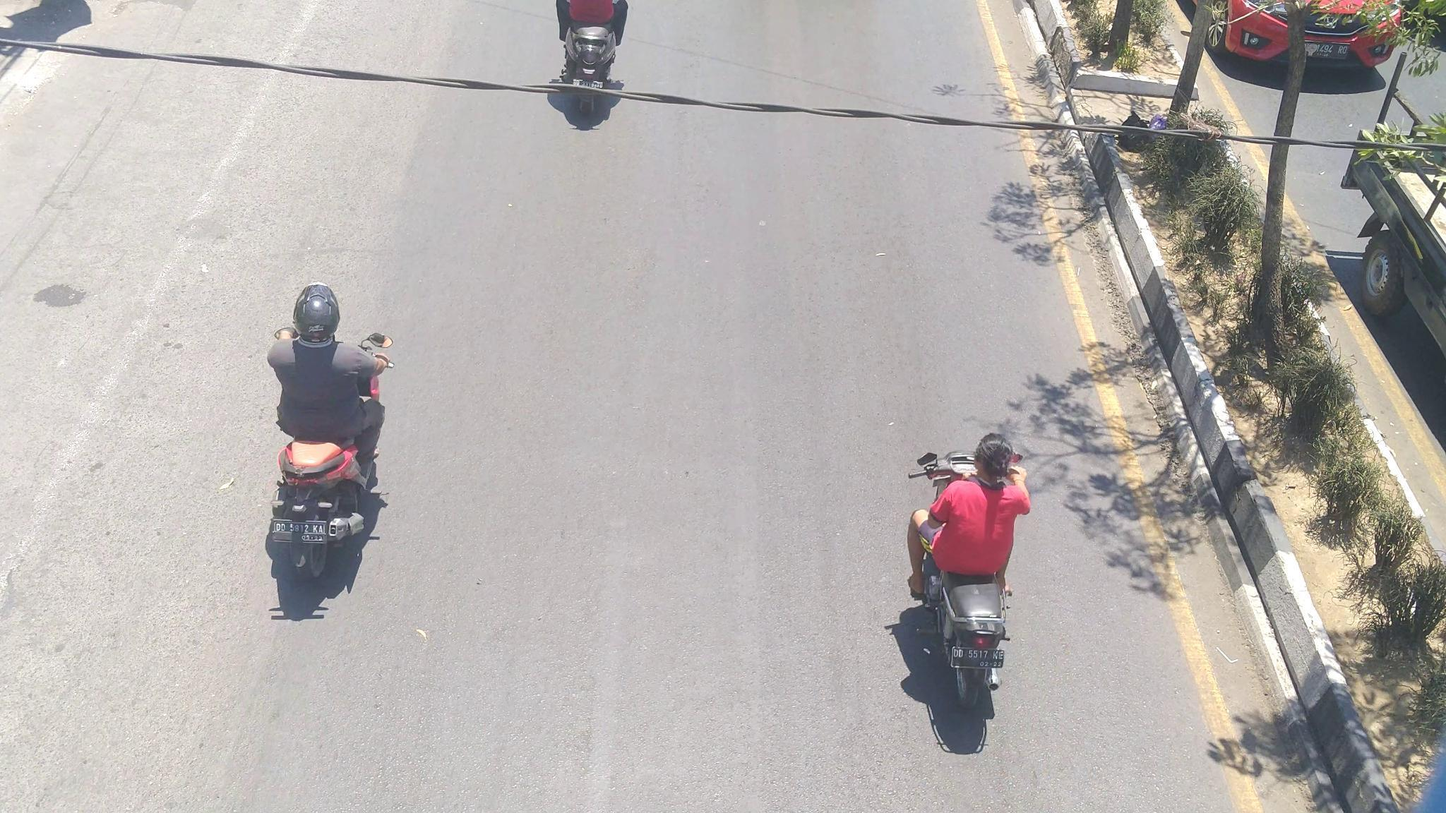Helmet: (287, 276, 346, 354)
bike: (265, 320, 395, 583), (915, 441, 1028, 709)
no-helmet: (965, 428, 1019, 482)
number-plate: (271, 516, 326, 548), (951, 644, 1008, 669)
rider: (267, 278, 389, 475), (910, 429, 1035, 602)
